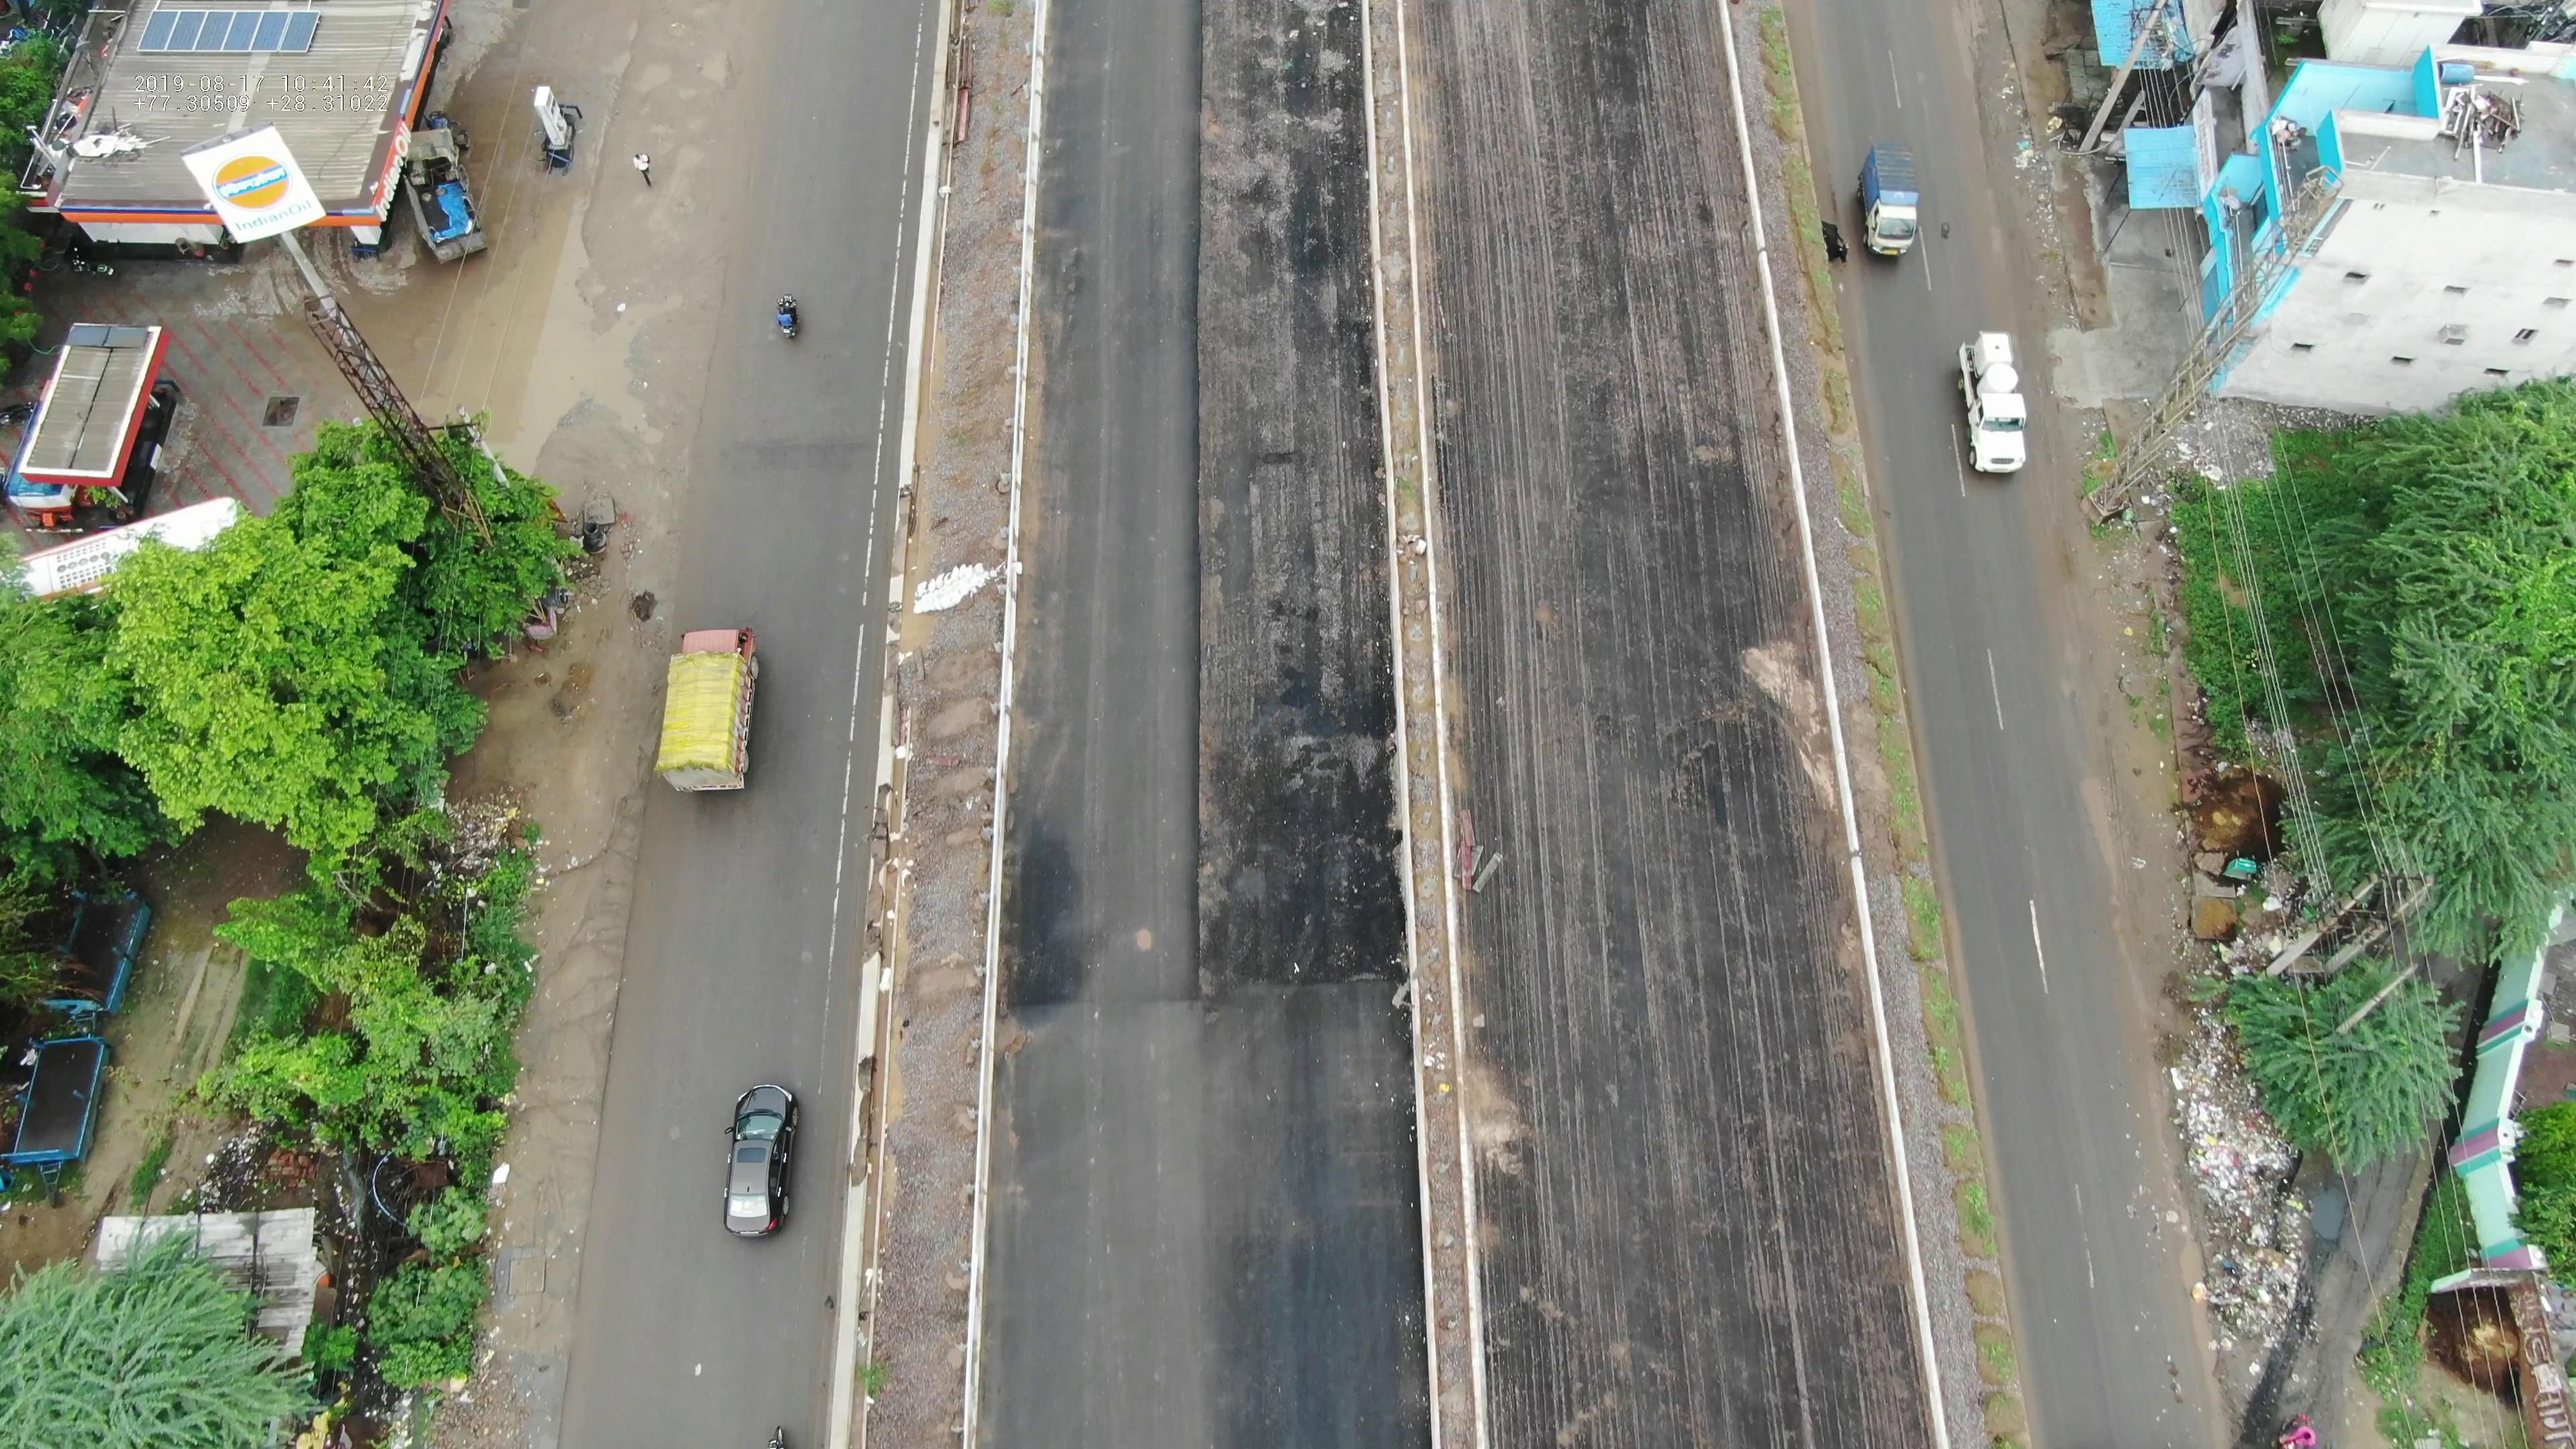Road_side_garbage: (2148, 1044, 2307, 1332)
